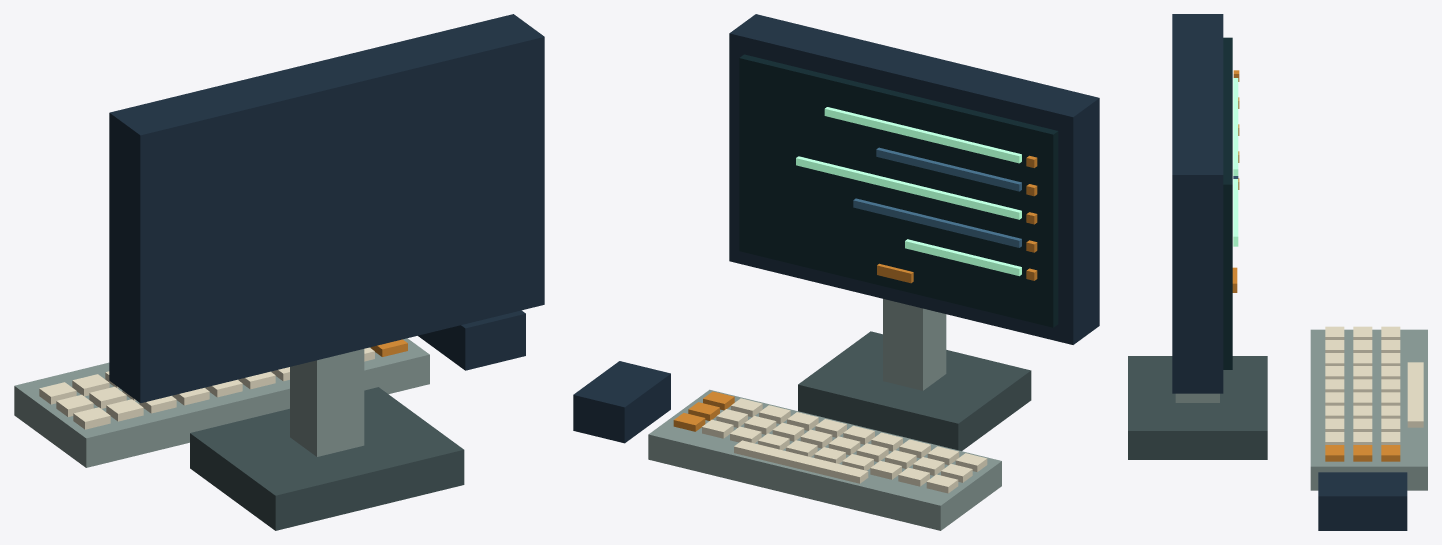
File: terminal.glb
3 renders of one model, left to right at view 1: azimuth 30°, elevation 25°; view 2: azimuth 150°, elevation 25°; view 3: azimuth 270°, elevation 25°, orthographic. The views are drawn at different scales.
Parts seen in each view (by area): view 1: GS022_Terminal; view 2: GS022_Terminal; view 3: GS022_Terminal.
Part boxes in pixels (x1,y1,x2,y2): GS022_Terminal: (14, 14, 544, 530); GS022_Terminal: (573, 14, 1099, 530); GS022_Terminal: (1128, 14, 1427, 530).
Bounding box in the file's own units: 0.705 × 0.57 × 0.4725.
